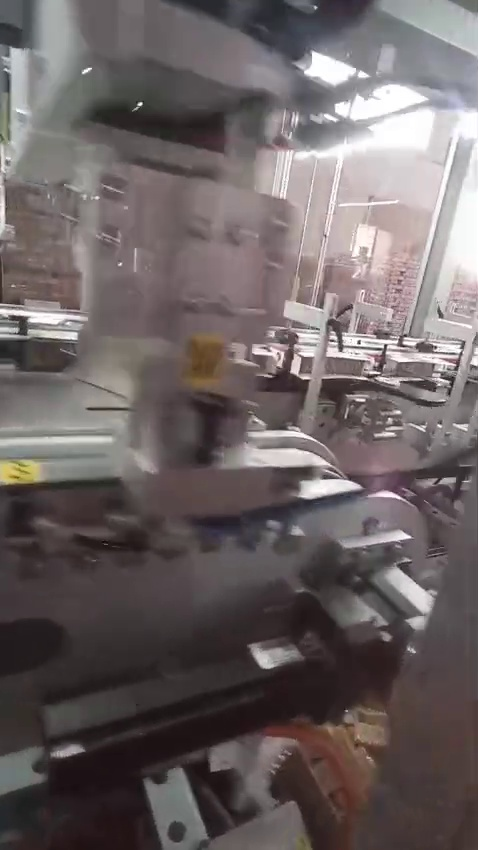savon: (319, 702, 384, 788), (177, 331, 234, 398), (0, 458, 51, 489), (34, 353, 62, 368), (22, 228, 36, 256), (296, 830, 314, 850), (17, 708, 32, 726), (358, 800, 369, 818)
